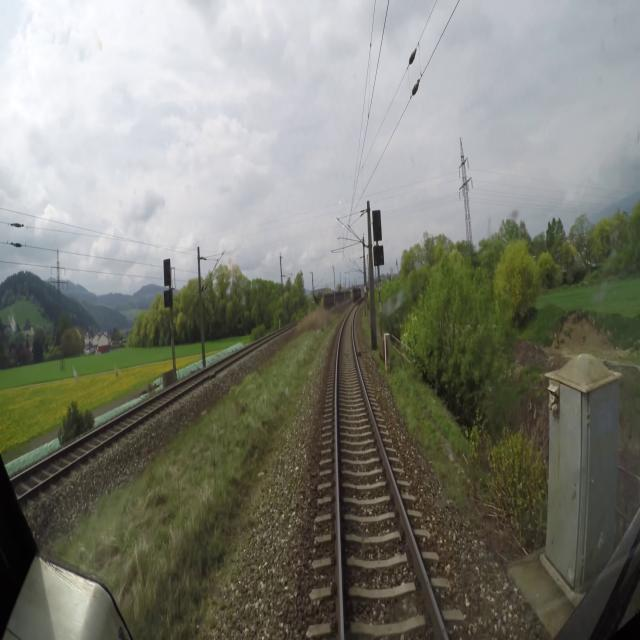rail-track: (337, 305, 443, 639), (12, 357, 233, 493)
